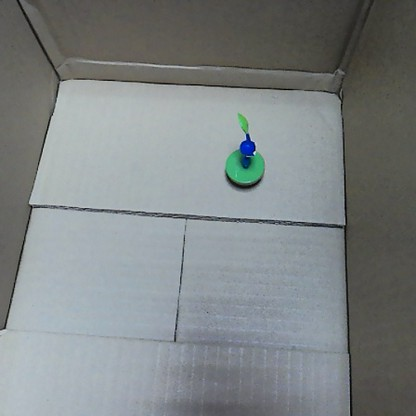leafairy: (223, 109, 267, 190)
